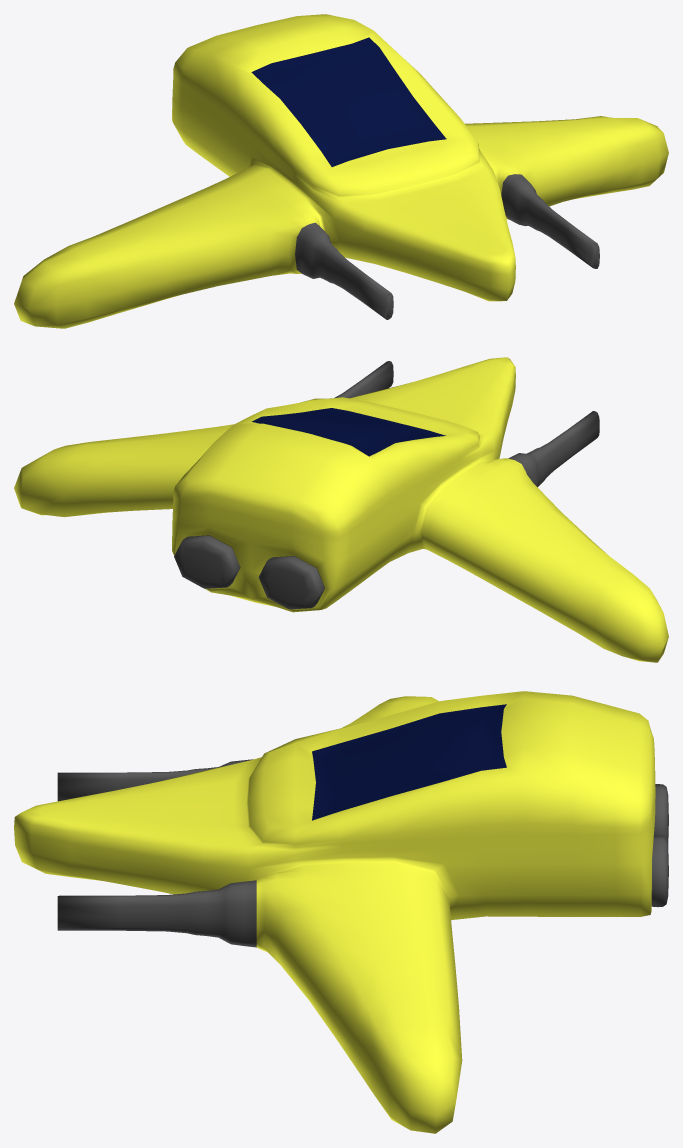
File: Spacejet_Beta_New.fbx
3 renders of one model, top to bottom at view 1: azimuth 30°, elevation 25°; view 2: azimuth 150°, elevation 25°; view 3: azimuth 270°, elevation 25°, orthographic. The views are drawn at different scales.
Parts seen in each view (by area): view 1: Cube; view 2: Cube; view 3: Cube.
Part boxes in pixels (x1=…): Cube: x1=14, y1=14, x2=668, y2=328; Cube: x1=14, y1=357, x2=668, y2=662; Cube: x1=14, y1=691, x2=668, y2=1133.
Size of the model in its own units: 19.2 by 5.17 by 13.59.
